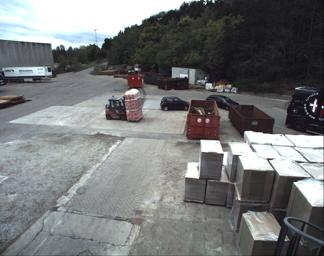rockwool_batts: (124, 88, 142, 120)
